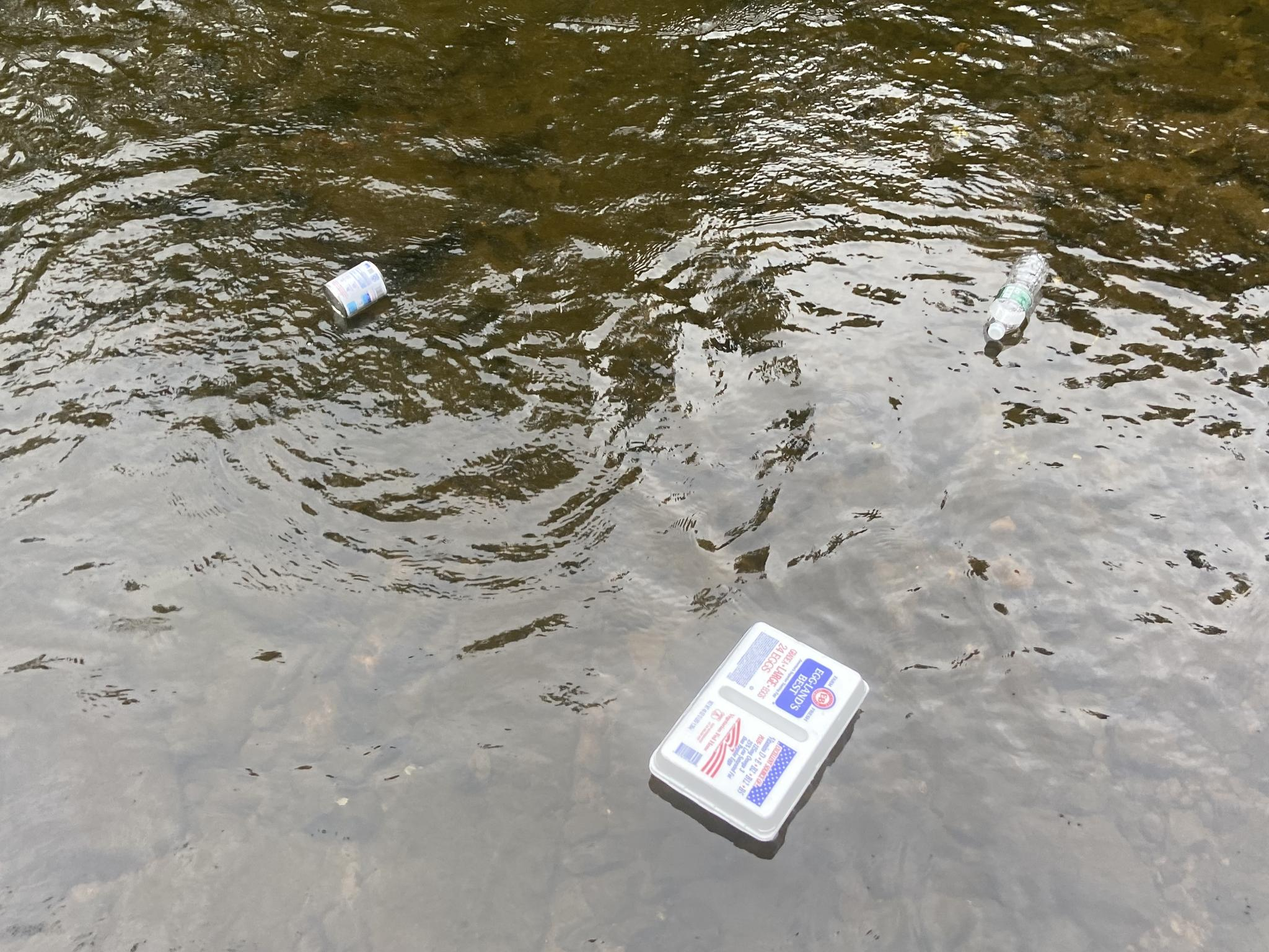metal: (866, 630, 961, 702)
plastic: (394, 96, 643, 343), (207, 598, 296, 710)
